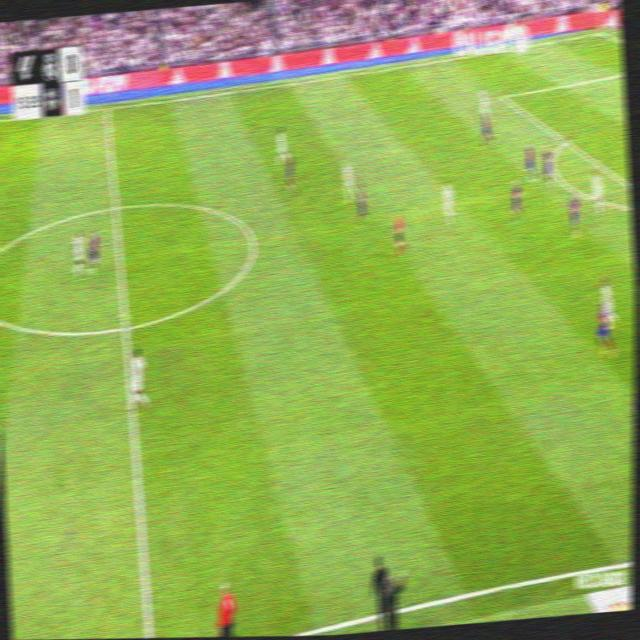bigarea_top_inner: (497, 87, 508, 104)
corner: (594, 25, 605, 37)
halfcircle_bottom: (118, 315, 132, 340)
halfcircle_top: (107, 194, 123, 219)
midline_top_intersection: (102, 102, 112, 115)
top_arc_area_intersection: (561, 133, 570, 148)
